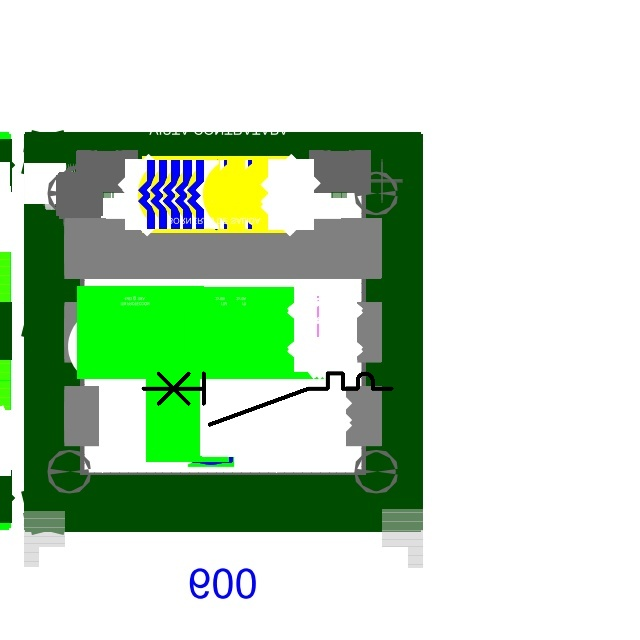interruptor_termomagnetico: (137, 367, 398, 431)
